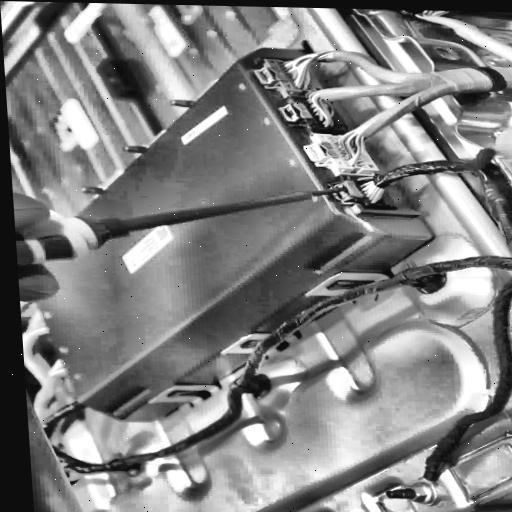bms_unit: (16, 44, 434, 425)
high_volt_cable: (281, 9, 512, 157)
low_volt_cable: (52, 148, 512, 493)
nut: (386, 485, 429, 502)
